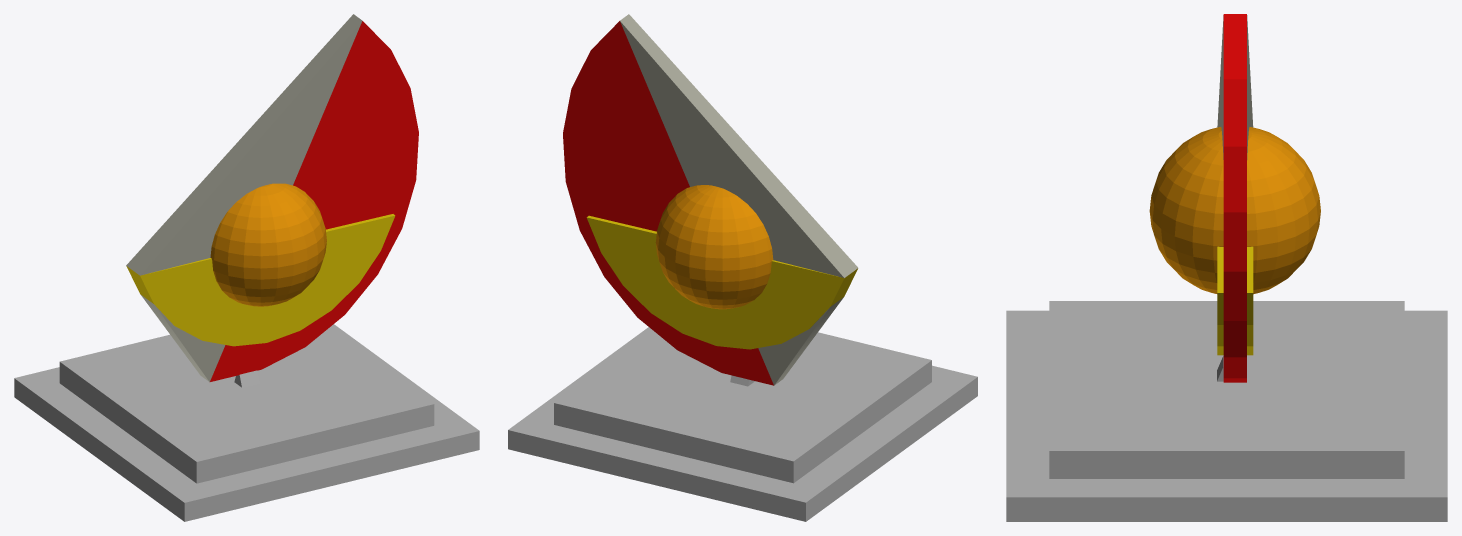
Rendered from Art-07.fbx.
3 renders of one model, left to right at view 1: azimuth 30°, elevation 25°; view 2: azimuth 150°, elevation 25°; view 3: azimuth 270°, elevation 25°, orthographic. The views are drawn at different scales.
Parts seen in each view (by area): view 1: Art-01, Colider; view 2: Art-01, Colider; view 3: Art-01, Colider.
Part boxes in pixels (box(x1,y1,x2,y2)): Art-01: box(14, 21, 479, 521); Colider: box(126, 14, 362, 381); Art-01: box(508, 21, 977, 521); Colider: box(620, 14, 857, 385); Art-01: box(1006, 14, 1447, 521); Colider: box(1217, 15, 1253, 159).
Size of the model in its own units: 5.37 by 6.06 by 4.98.
